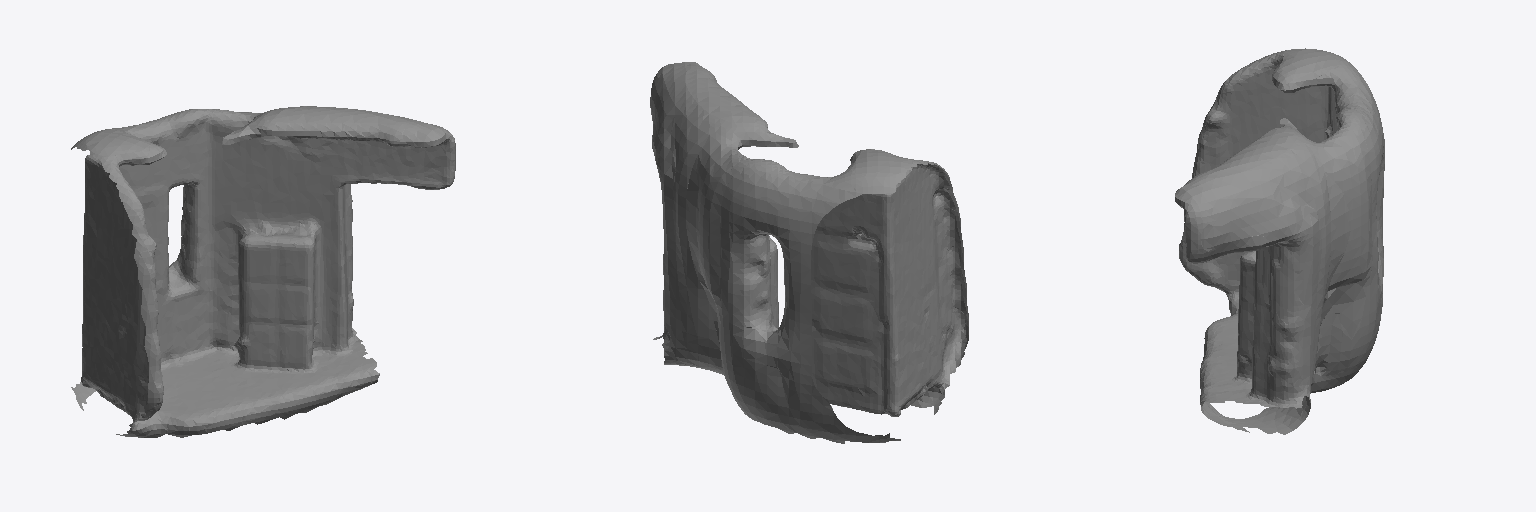
File: RIGHTCORNER.obj
3 renders of one model, left to right at view 1: azimuth 30°, elevation 25°; view 2: azimuth 150°, elevation 25°; view 3: azimuth 270°, elevation 25°, orthographic.
Visible parts, largest first — view 1: default; view 2: default; view 3: default.
Boxes of the visible parts, x1,y1,x2,y2 form: default: [71, 106, 455, 437]; default: [650, 62, 968, 443]; default: [1175, 48, 1384, 434].
Size of the model in its own units: 3.88 by 3.25 by 2.26.